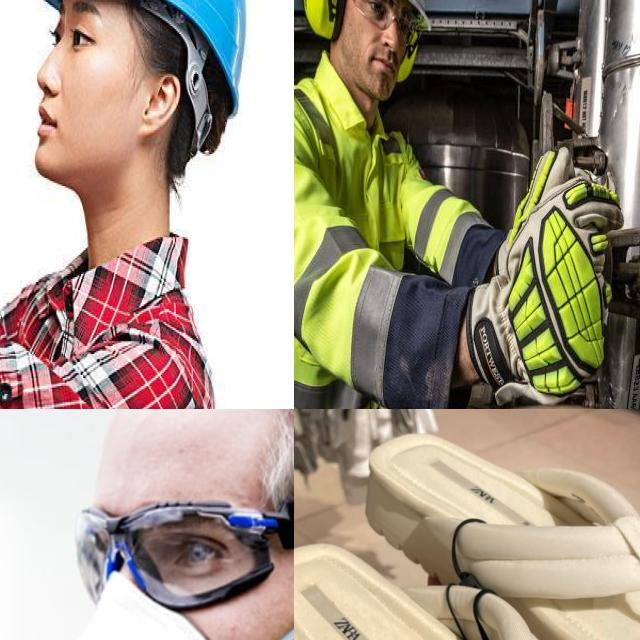Ear-protection: (387, 21, 422, 77), (300, 0, 343, 41)
No_Ear-Protection: (134, 64, 184, 154)
No_Glasses: (31, 0, 101, 74)
Sandals: (294, 409, 640, 640)
glasses: (74, 508, 293, 606), (341, 0, 420, 50)
hand_glove: (466, 146, 623, 402)
person: (294, 0, 640, 409), (59, 409, 294, 640)
